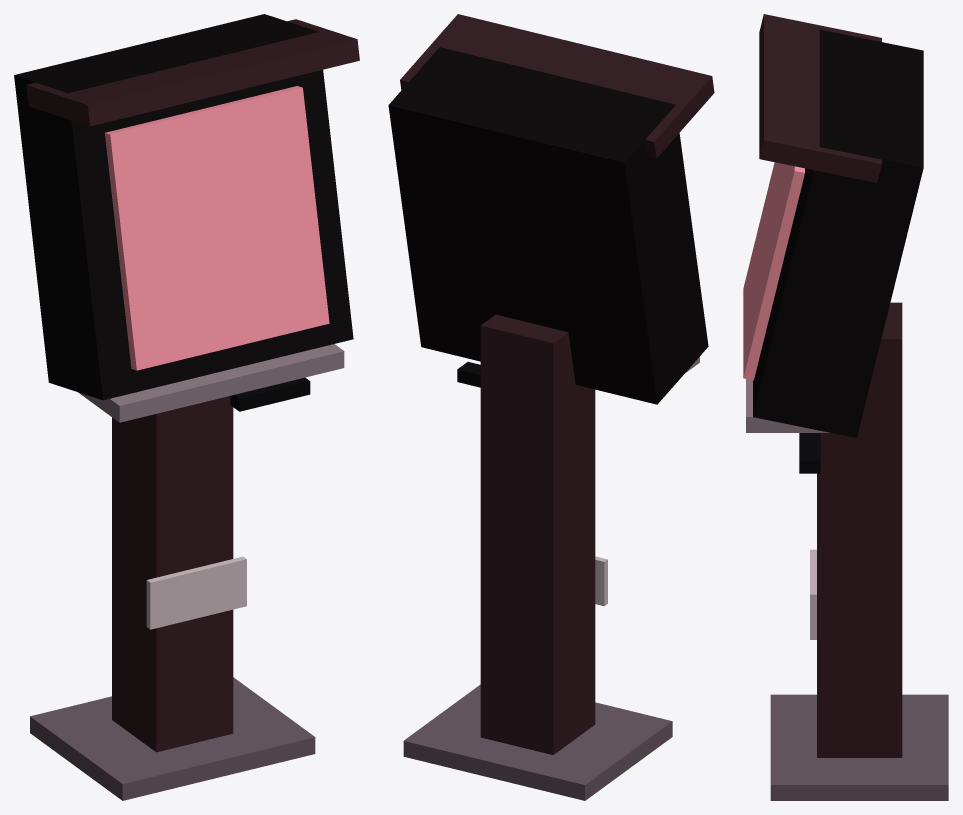
Rendered from SM_TransitKiosk_01.obj.
The picture shows the model from 3 angles, left to right: view 1: azimuth 30°, elevation 25°; view 2: azimuth 150°, elevation 25°; view 3: azimuth 270°, elevation 25°; orthographic projection. The views are drawn at different scales.
Visible parts, largest first — view 1: screen, head_shell, post, foot_plate, screen_hood, keypad_shelf, id_plate, ticket_slot; view 2: head_shell, post, foot_plate, screen_hood, id_plate; view 3: head_shell, post, foot_plate, screen_hood, screen, keypad_shelf, ticket_slot, id_plate.
Part boxes in pixels (x1,y1,x2,y2): screen: (105,86,329,370); head_shell: (14,14,353,400); post: (112,396,233,752); foot_plate: (30,677,315,800); screen_hood: (26,19,359,126); keypad_shelf: (78,344,344,422); id_plate: (146,556,246,629); ticket_slot: (230,377,310,411); head_shell: (388,47,708,404); post: (480,314,595,754); foot_plate: (403,684,672,800); screen_hood: (400,14,714,158); id_plate: (595,556,607,606); head_shell: (753,29,923,437); post: (817,302,902,757); foot_plate: (770,694,948,800); screen_hood: (759,14,881,182); screen: (743,162,804,380); keypad_shelf: (746,379,829,432); ticket_slot: (799,433,820,473); id_plate: (810,549,816,639).
Size of the model in its own units: 0.84 by 2.11 by 0.5767.
